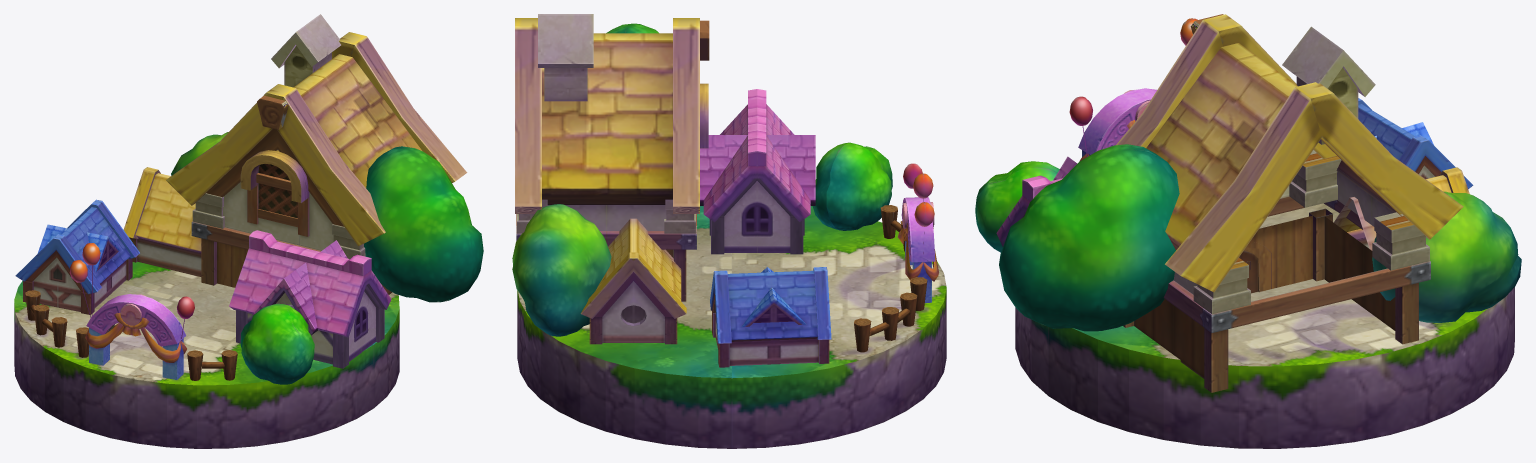
File: scenes_level_town01.FBX
3 views of the same model, side by side, from view 1: azimuth 30°, elevation 25°; view 2: azimuth 150°, elevation 25°; view 3: azimuth 270°, elevation 25° (orthographic). The views are drawn at different scales.
Visible parts, largest first — view 1: scenes_level_town01; view 2: scenes_level_town01; view 3: scenes_level_town01.
Part boxes in pixels (x1,y1,x2,y2): scenes_level_town01: (14, 14, 483, 448); scenes_level_town01: (512, 14, 946, 448); scenes_level_town01: (975, 14, 1521, 448).
Size of the model in its own units: 534 by 383 by 494.
